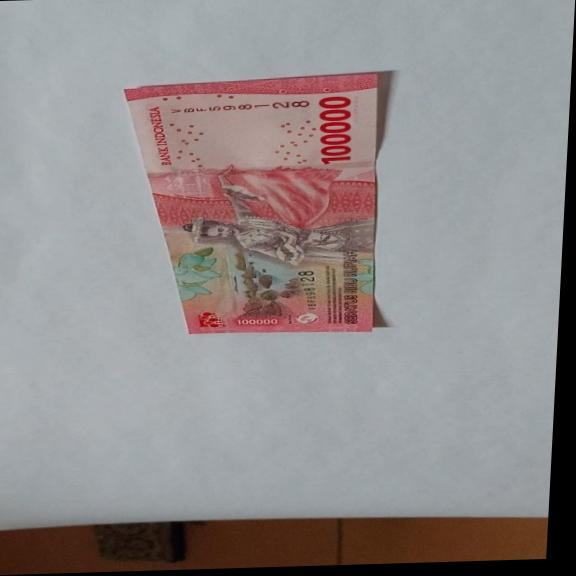Kertas: (109, 70, 393, 340), (313, 94, 356, 165)
